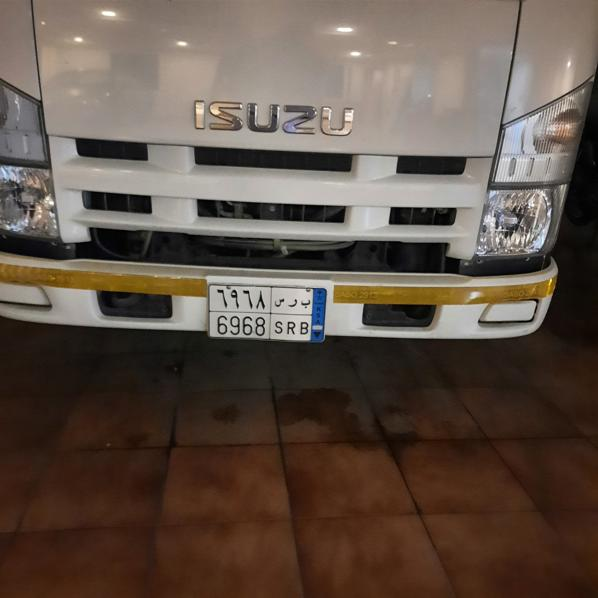numberplate: (207, 284, 327, 342)
